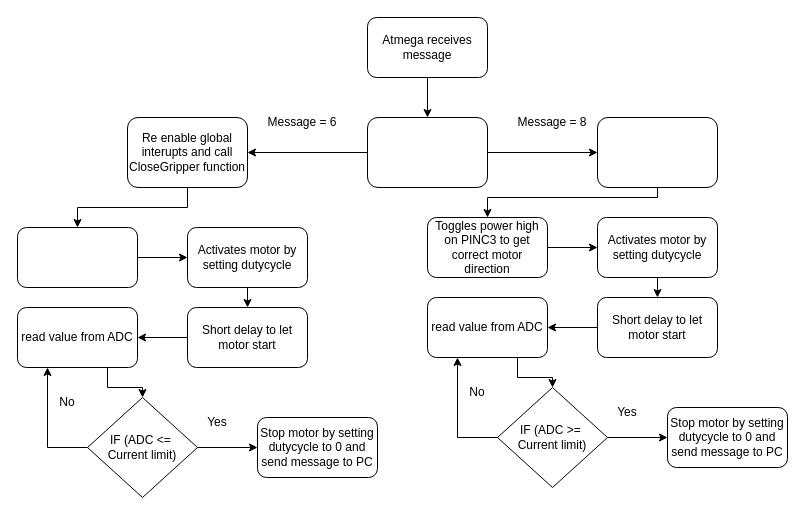
The diagram is 805 pixels wide and 515 high, and some of its shapes have lost their labels. The box of each missing label's shape, as (x1, y1, x2, y2) in pixels:
Checks value from received message: (366, 116, 488, 188)
Re enable global interupts and call OpenGripper function: (596, 116, 718, 188)
Toggles power low on PINC3 to get correct motor direction: (16, 226, 138, 288)
